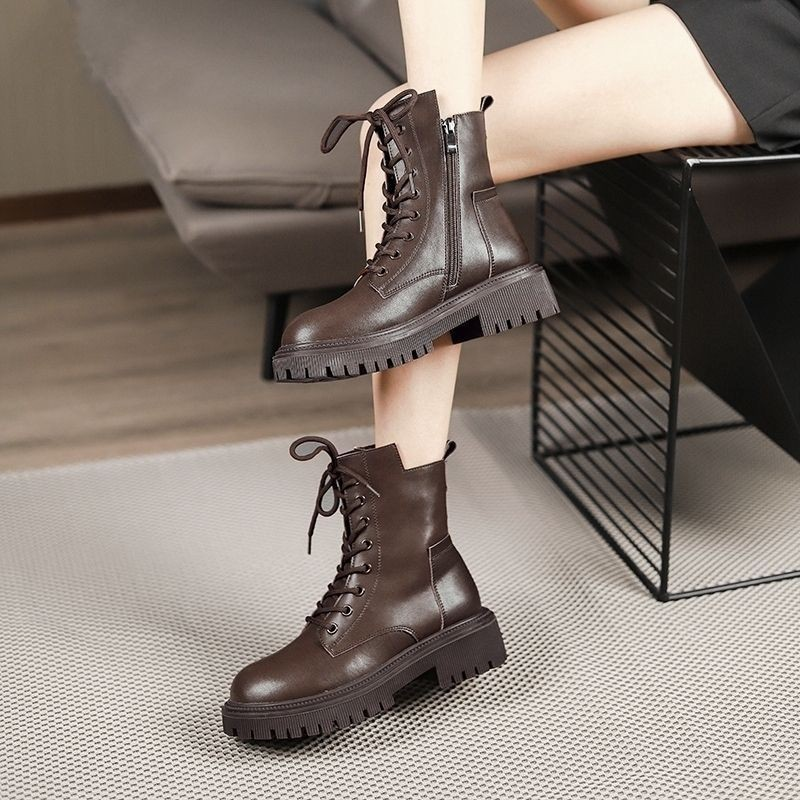boots: (220, 437, 510, 744), (268, 92, 563, 385)
